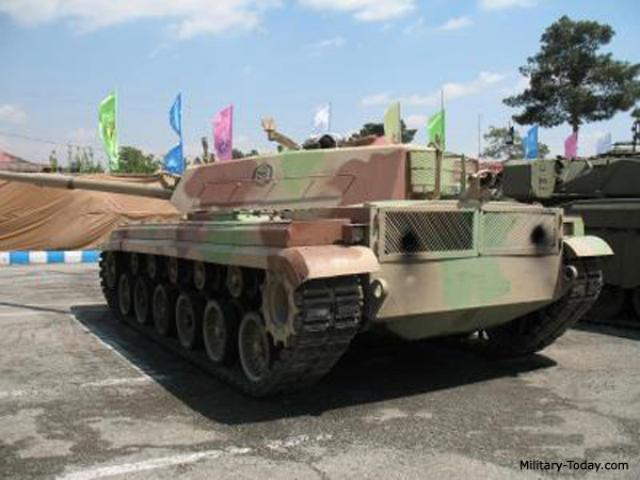tank: (100, 134, 602, 386), (543, 129, 639, 305)
